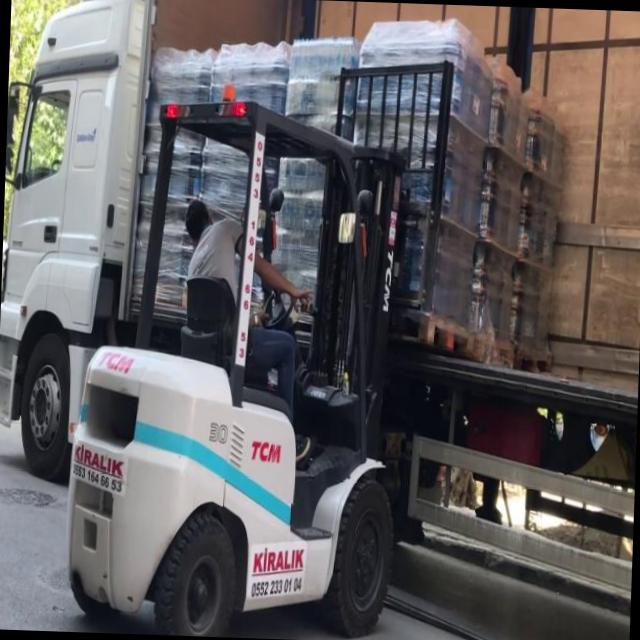driver: (174, 190, 308, 369)
forklift: (54, 75, 417, 640)
